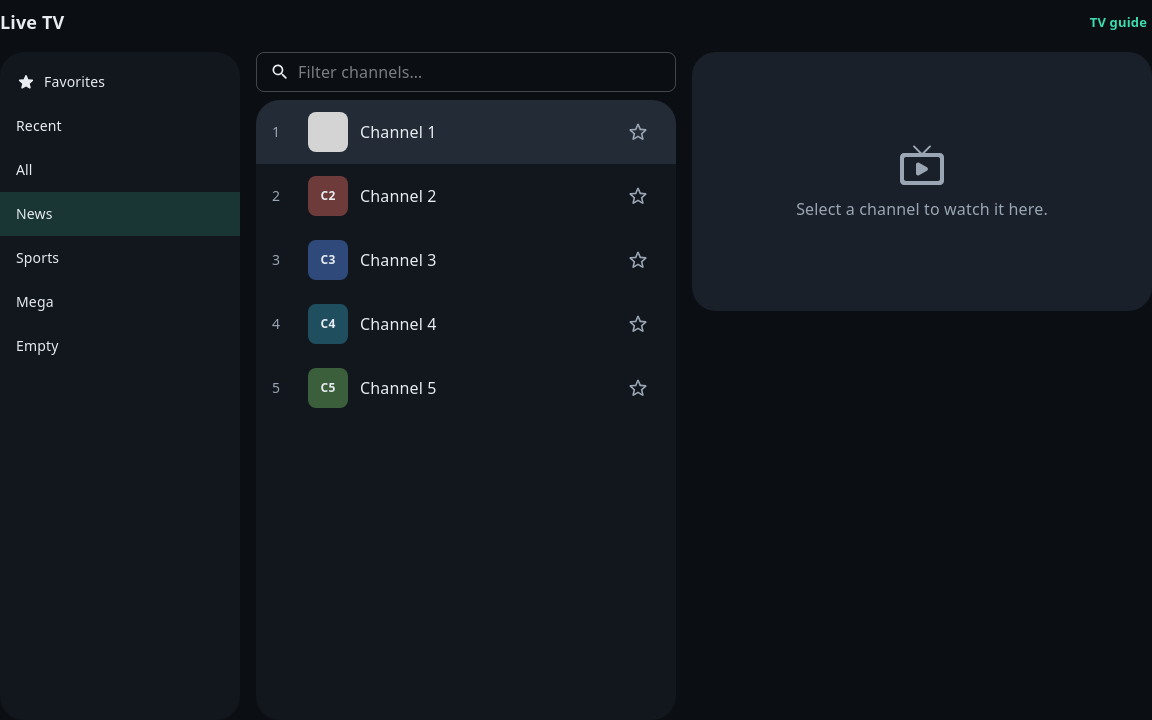
Test case: LiveScreen — keyboard (AC4) › the star toggles the favourite with the mouse, and Favorites lists it
Click the element named "Toggle favorite: Channel 3": (638, 260) [626,248,650,272]
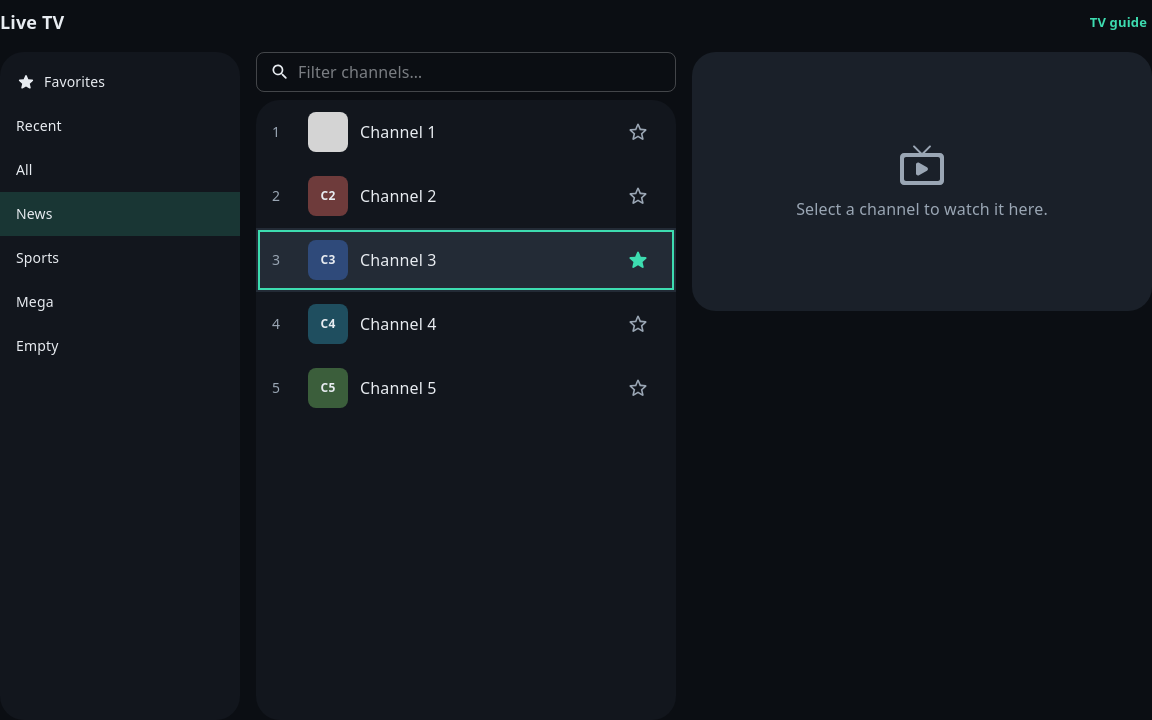
Click the link "Favorites": (61, 82) [16,72,105,92]
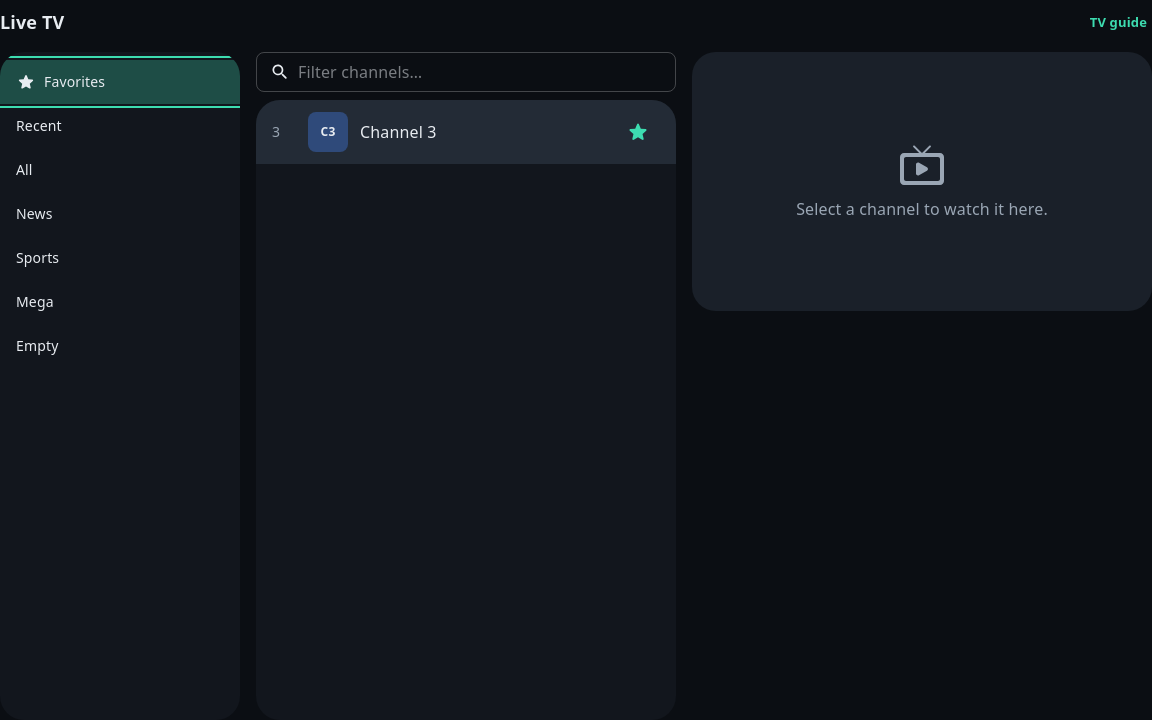
Expected: the text "Channel 3" is shown, [359,120,506,143]
Now the number of options is 1, box [256,100,676,164]
